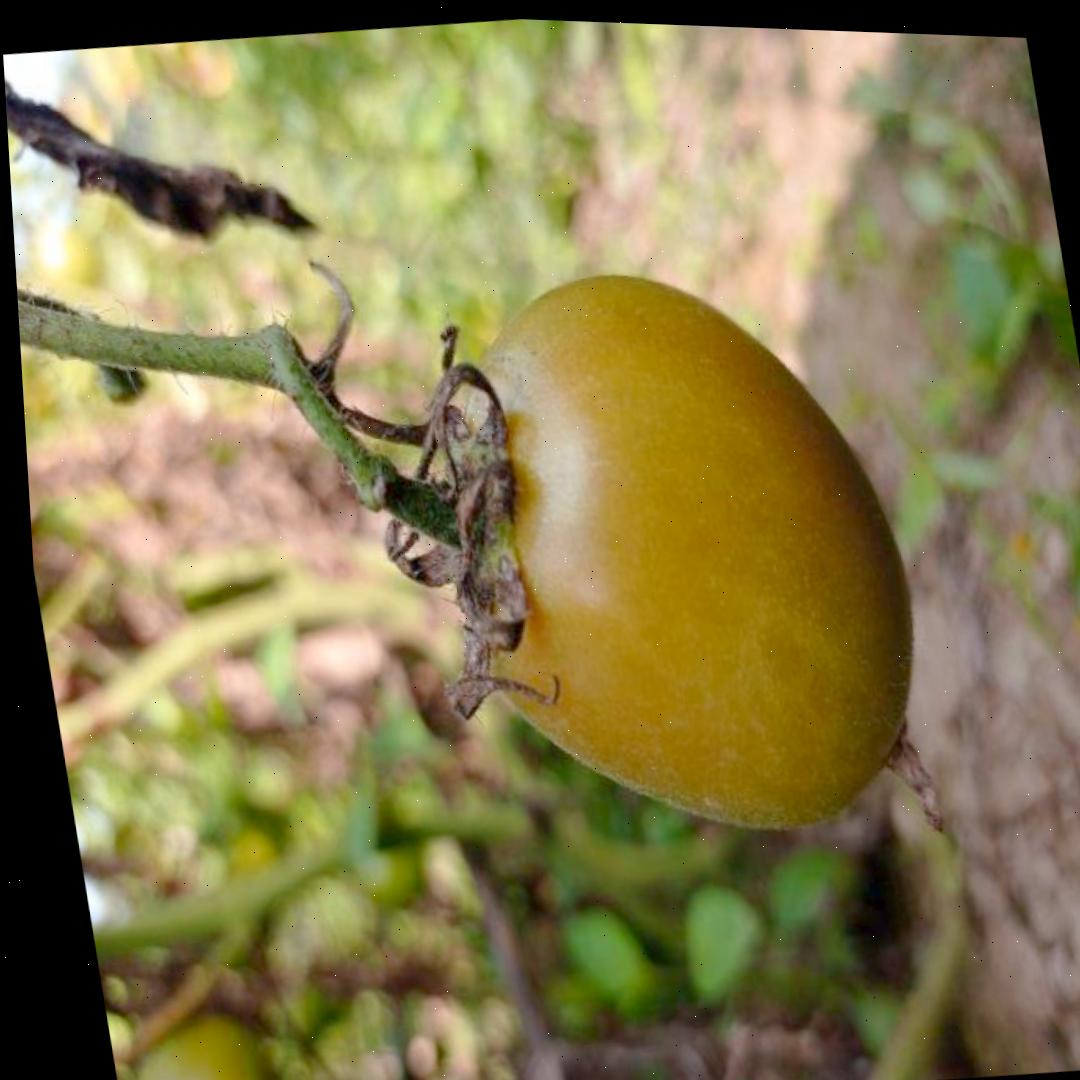setengah_matang: (397, 235, 953, 871)
